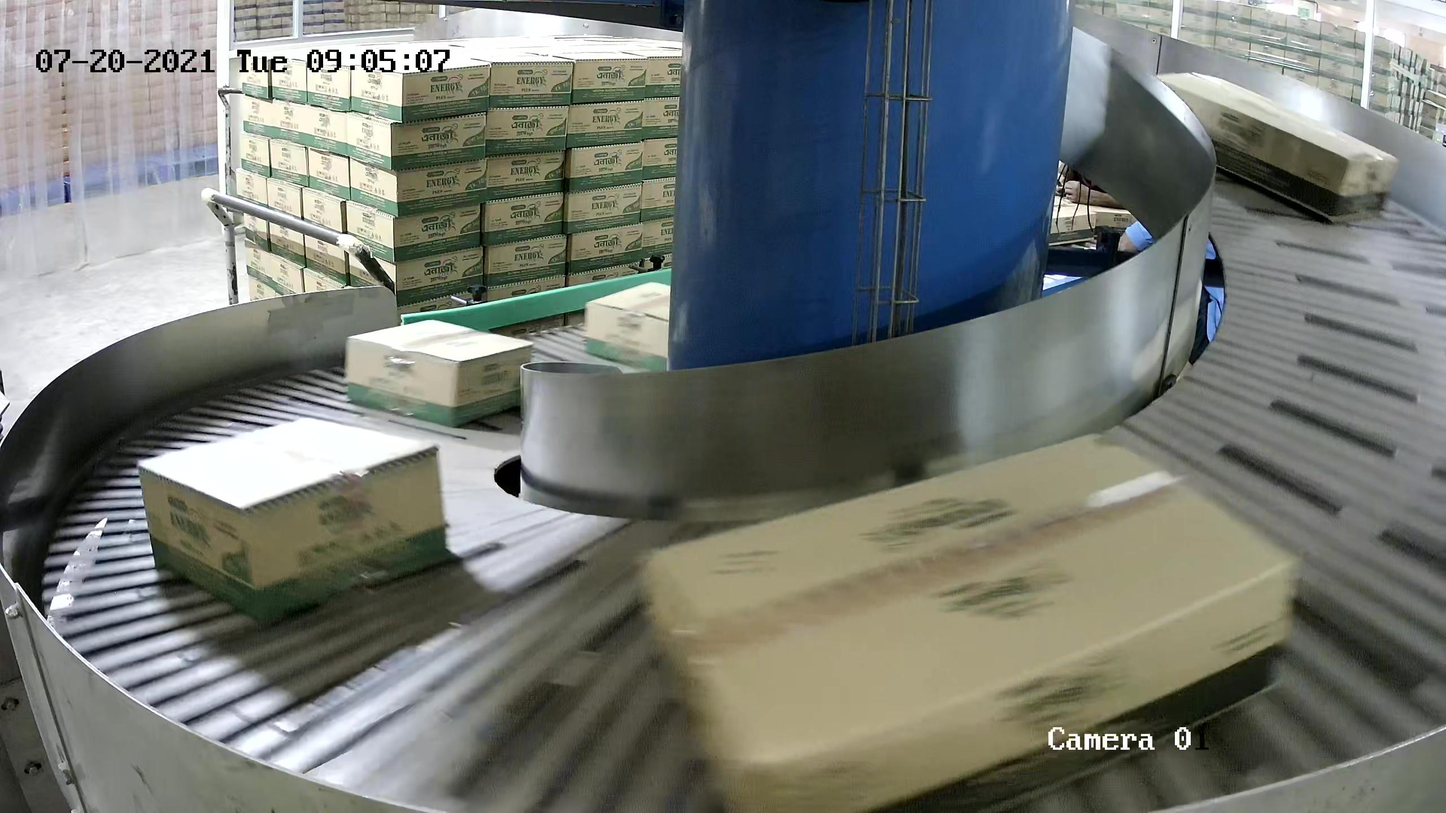Box: (634, 425, 1303, 813), (135, 414, 451, 625), (1148, 68, 1400, 227), (343, 317, 536, 429), (584, 280, 671, 373)
